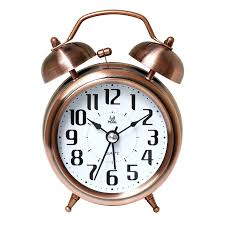alarm_clock: (41, 9, 183, 213)
